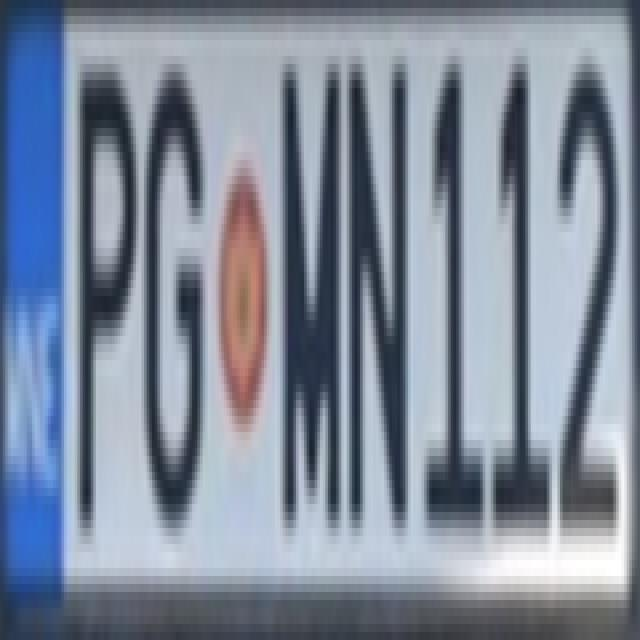licenseplate: (0, 12, 633, 616)
